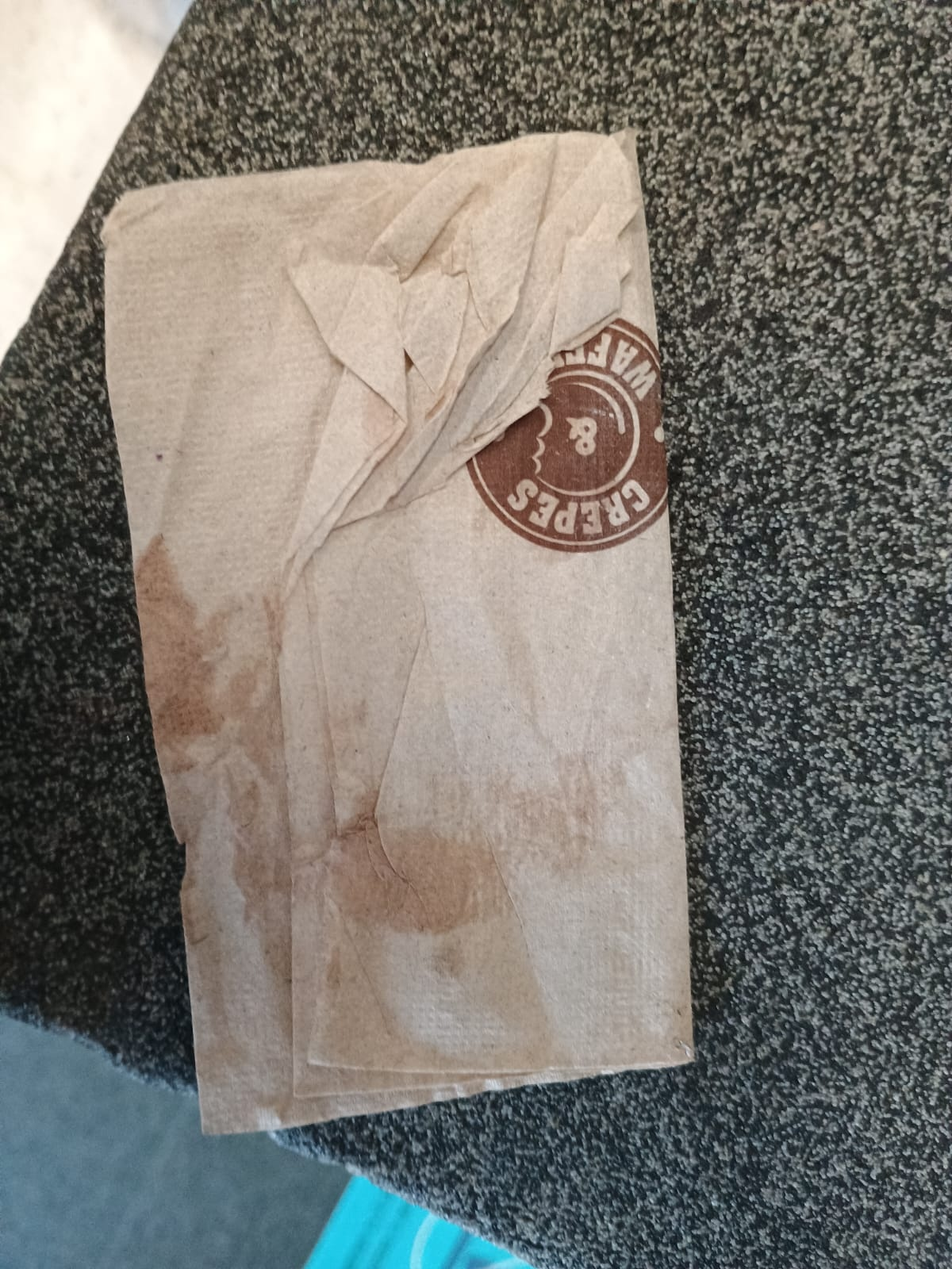Ordinario: (101, 131, 692, 1136)
